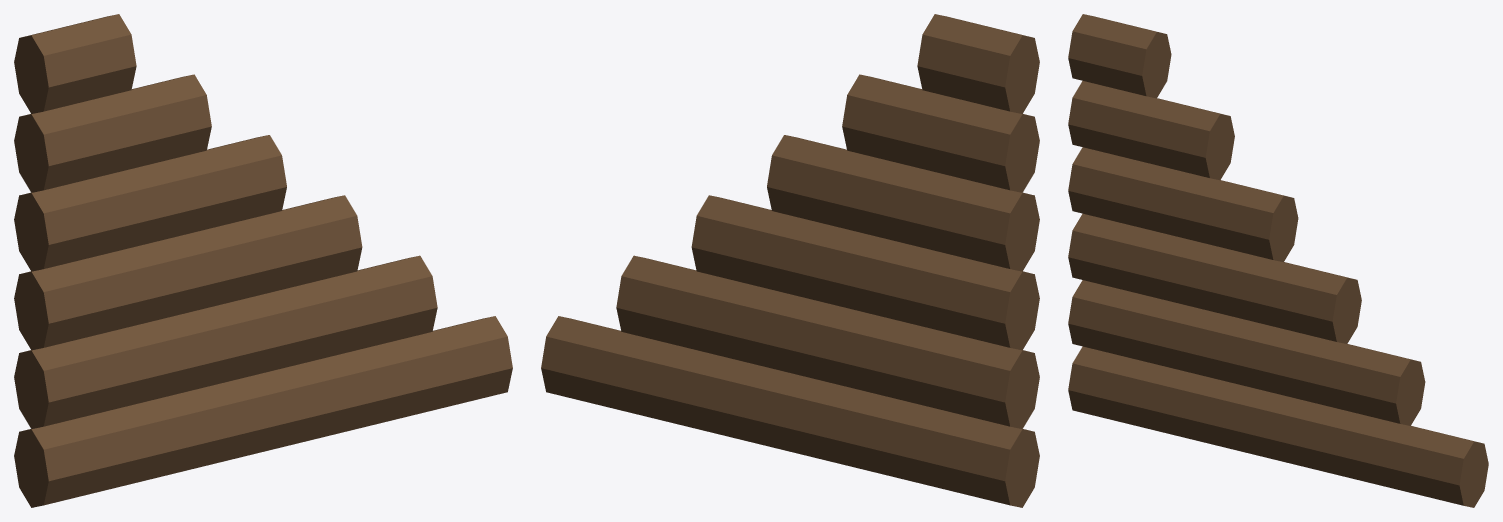
The model's file is gable_log_lod0.glb.
3 renders of one model, left to right at view 1: azimuth 30°, elevation 25°; view 2: azimuth 150°, elevation 25°; view 3: azimuth 330°, elevation 25°, orthographic. The views are drawn at different scales.
Visible parts, largest first — view 1: gable_log; view 2: gable_log; view 3: gable_log.
Part boxes in pixels (x1,y1,x2,y2): gable_log: [14, 14, 512, 507]; gable_log: [541, 14, 1039, 507]; gable_log: [1068, 14, 1488, 507].
Bounding box in the file's own units: 1.85 × 1.8 × 0.24.
